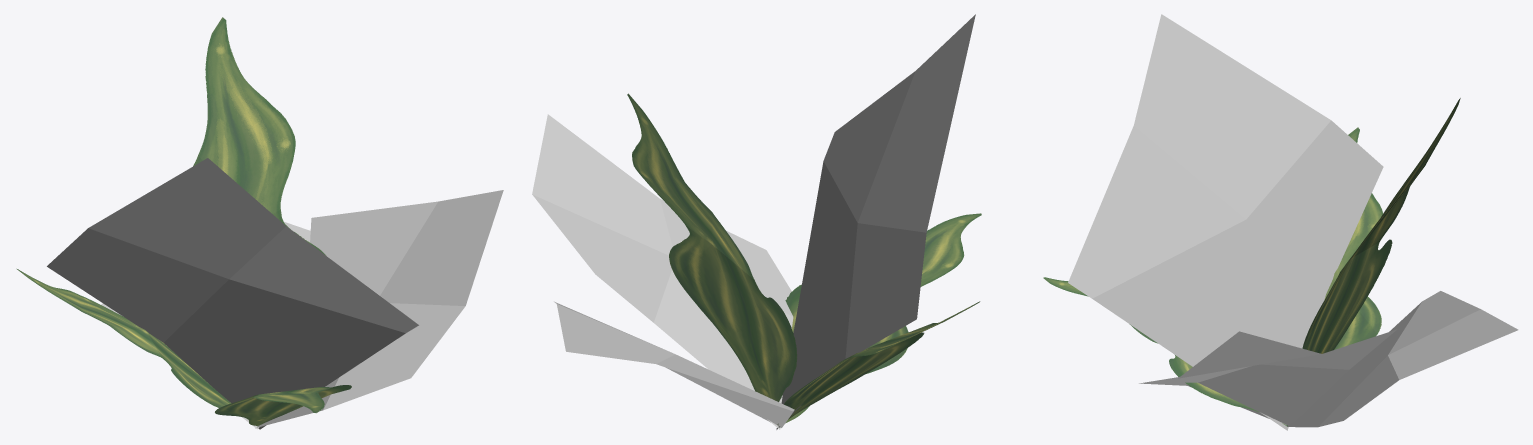
File: diff bush.fbx
The picture shows the model from 3 angles, left to right: view 1: azimuth 30°, elevation 25°; view 2: azimuth 150°, elevation 25°; view 3: azimuth 270°, elevation 25°; orthographic projection. The views are drawn at different scales.
Visible parts, largest first — view 1: Plane.006, Plane.002, Plane, Plane.001, Plane.005; view 2: Plane.006, Plane.002, Plane, Plane.004, Plane.001, Plane.005; view 3: Plane.006, Plane.004, Plane.002, Plane, Plane.001, Plane.005.
Part boxes in pixels (left/top/right/bottom): Plane.006: left=47, top=158, right=418, bottom=429; Plane.002: left=255, top=190, right=503, bottom=428; Plane: left=193, top=17, right=326, bottom=255; Plane.001: left=16, top=268, right=231, bottom=407; Plane.005: left=215, top=385, right=351, bottom=425; Plane.006: left=776, top=14, right=975, bottom=429; Plane.002: left=532, top=114, right=793, bottom=429; Plane: left=627, top=93, right=797, bottom=427; Plane.004: left=554, top=301, right=794, bottom=427; Plane.001: left=777, top=301, right=980, bottom=425; Plane.005: left=785, top=213, right=981, bottom=423; Plane.006: left=1068, top=14, right=1383, bottom=430; Plane.004: left=1287, top=291, right=1518, bottom=427; Plane.002: left=1139, top=329, right=1396, bottom=425; Plane: left=1287, top=98, right=1460, bottom=425; Plane.001: left=1287, top=127, right=1382, bottom=425; Plane.005: left=1043, top=277, right=1287, bottom=426.
Size of the model in its own units: 339 by 258 by 310.
